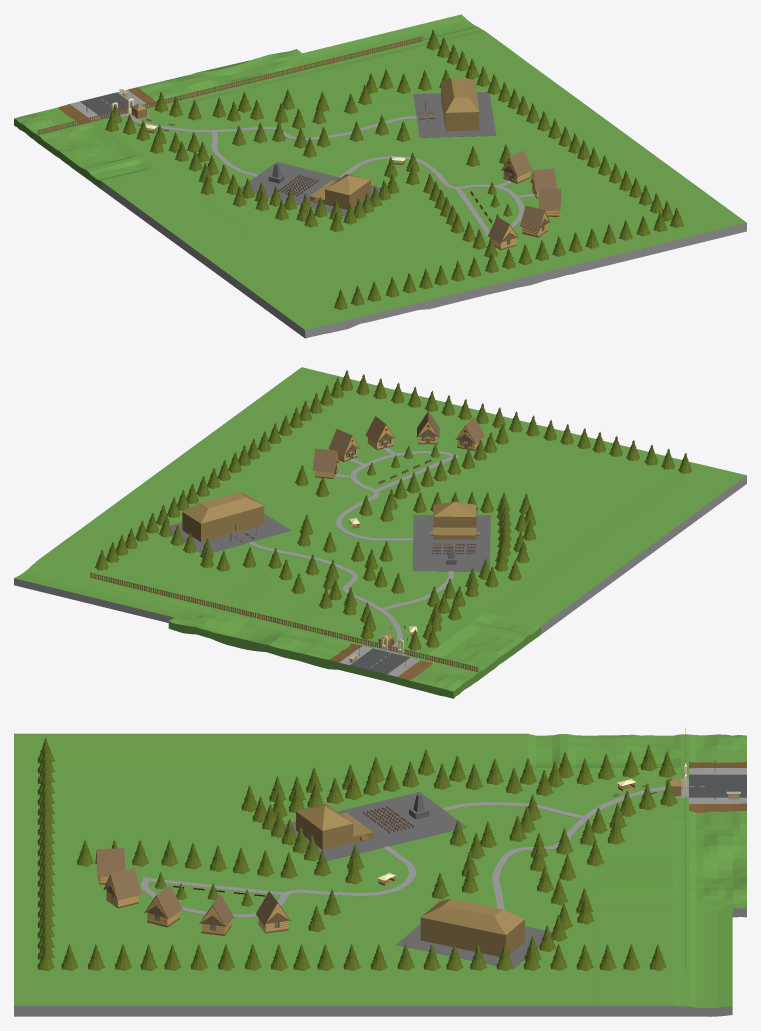
File: SceneMainCamp.fbx
3 views of the same model, one above another, from view 1: azimuth 30°, elevation 25°; view 2: azimuth 150°, elevation 25°; view 3: azimuth 270°, elevation 25° (orthographic). The views are drawn at different scales.
Parts seen in each view (by area): view 1: Ландшафт, Площадь.001, Площадь.002, Администрация.001, Забор2, Сцена/Хореография.001, Дорожка2.001, Дорожка1, Жилой Домик.003, Жилой Домик.002, Жилой Домик.004, Жилой Домик (+1 smaller); view 2: Ландшафт, Площадь.001, Администрация.001, Забор2, Сцена/Хореография.001, Площадь.002, Дорожка2.001, Дорожка1, Жилой Домик.002, Жилой Домик.001, Жилой Домик, Жилой Домик.004 (+1 smaller); view 3: Ландшафт, Администрация.001, Площадь.001, Сцена/Хореография.001, Площадь.002, Дорожка2.001, Жилой Домик.003, Дорожка1, Жилой Домик, Жилой Домик.002, Жилой Домик.001, Жилой Домик.004 (+2 smaller).
Part boxes in pixels (x1,y1,x2,y2): Ландшафт: (14,14,746,338); Площадь.001: (241,162,380,216); Площадь.002: (413,92,496,137); Администрация.001: (441,78,479,131); Забор2: (141,36,423,108); Сцена/Хореография.001: (309,174,370,209); Дорожка2.001: (339,156,524,235); Дорожка1: (126,114,416,140); Жилой Домик.003: (520,205,549,237); Жилой Домик.002: (501,150,532,183); Жилой Домик.004: (488,216,518,249); Жилой Домик: (538,188,560,216); Ландшафт: (14,367,746,698); Площадь.001: (412,515,490,571); Администрация.001: (182,492,264,541); Забор2: (90,572,381,648); Сцена/Хореография.001: (429,502,479,539); Площадь.002: (170,513,290,552); Дорожка2.001: (336,451,459,540); Дорожка1: (248,541,402,649); Жилой Домик.002: (312,448,339,478); Жилой Домик.001: (328,429,359,461); Жилой Домик: (365,416,395,449); Жилой Домик.004: (455,417,484,450); Ландшафт: (14,733,746,1016); Администрация.001: (420,898,524,956); Площадь.001: (284,792,466,861); Сцена/Хореография.001: (296,804,373,849); Площадь.002: (396,924,552,969); Дорожка2.001: (141,846,415,917); Жилой Домик.003: (103,868,141,908); Дорожка1: (492,787,665,909); Жилой Домик: (144,885,182,927); Жилой Домик.002: (256,891,290,933); Жилой Домик.001: (199,894,233,935); Жилой Домик.004: (95,848,125,884).
Size of the model in its own units: 53044 by 4438 by 60515.
